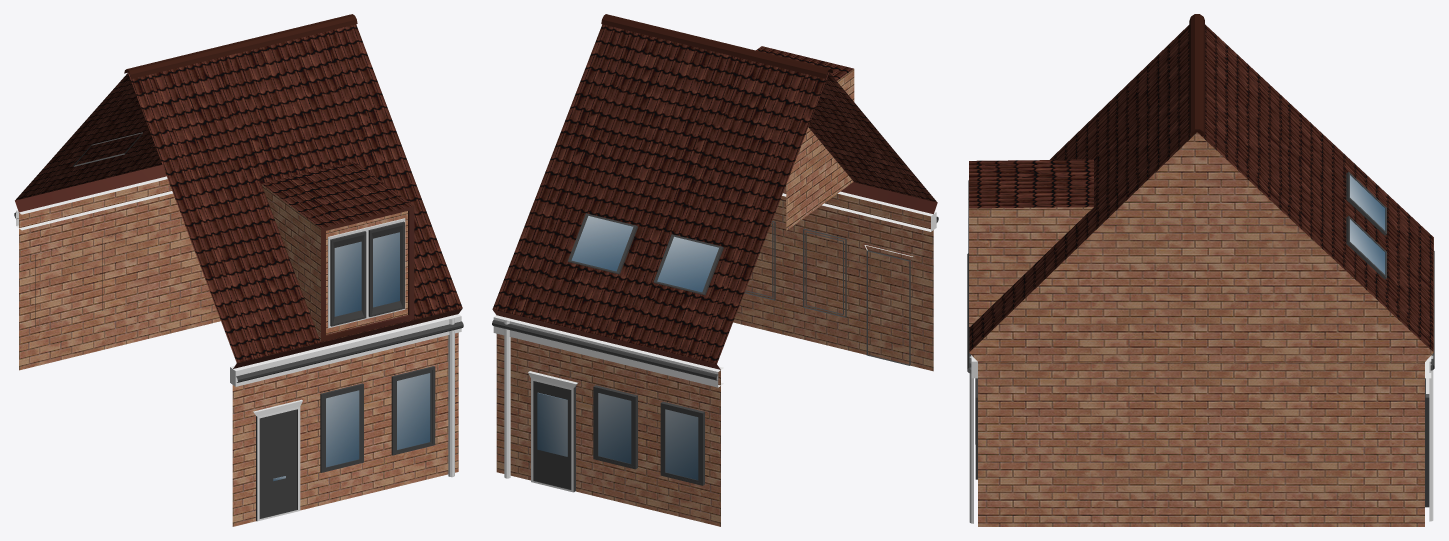
File: It_Buthus_15.fbx
3 views of the same model, side by side, from view 1: azimuth 30°, elevation 25°; view 2: azimuth 150°, elevation 25°; view 3: azimuth 270°, elevation 25° (orthographic). The views are drawn at different scales.
Parts seen in each view (by area): view 1: It_Buthus_15; view 2: It_Buthus_15; view 3: It_Buthus_15.
Part boxes in pixels (box(x1,y1,x2,y2)): It_Buthus_15: box(14, 14, 463, 526); It_Buthus_15: box(492, 14, 938, 526); It_Buthus_15: box(967, 14, 1434, 526).
Bounding box in the file's own units: 548 × 881 × 938.
